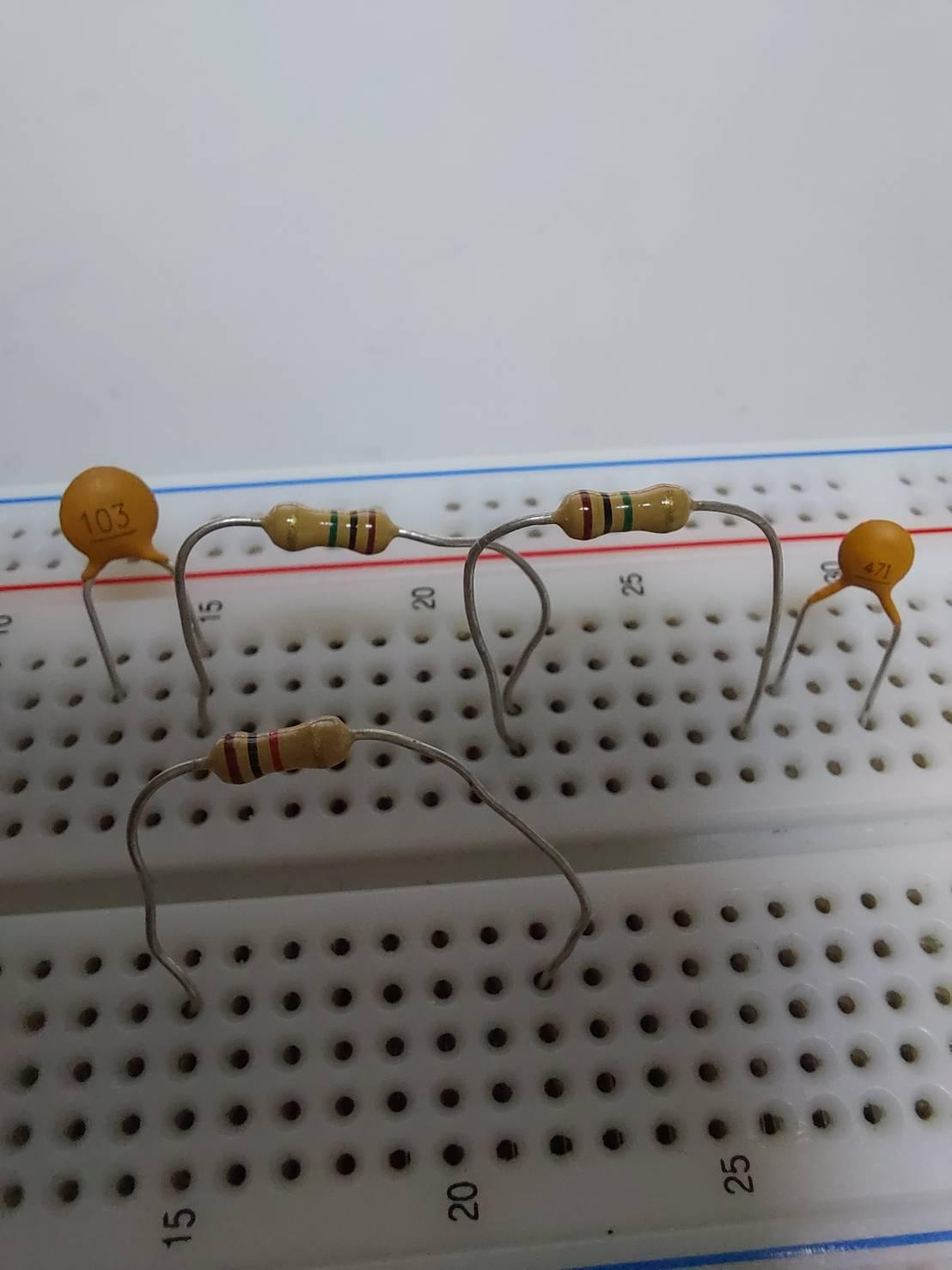resistor: (205, 717, 354, 779), (261, 495, 401, 555), (556, 482, 693, 540)
